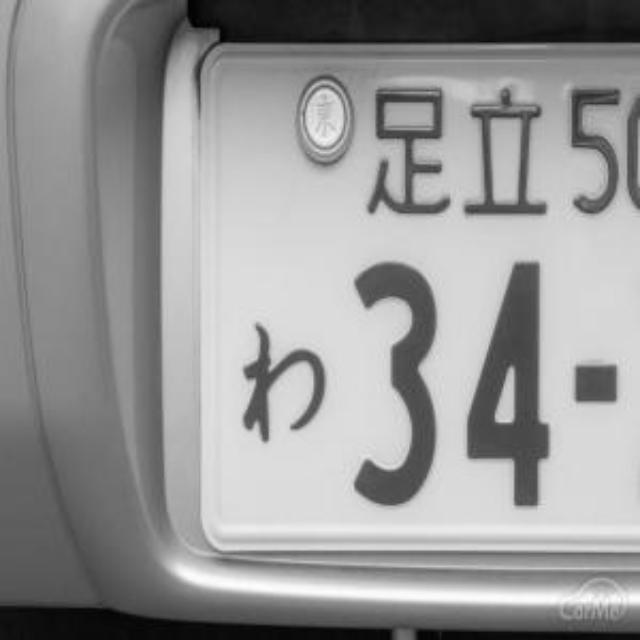License Plate: (201, 44, 640, 553)
